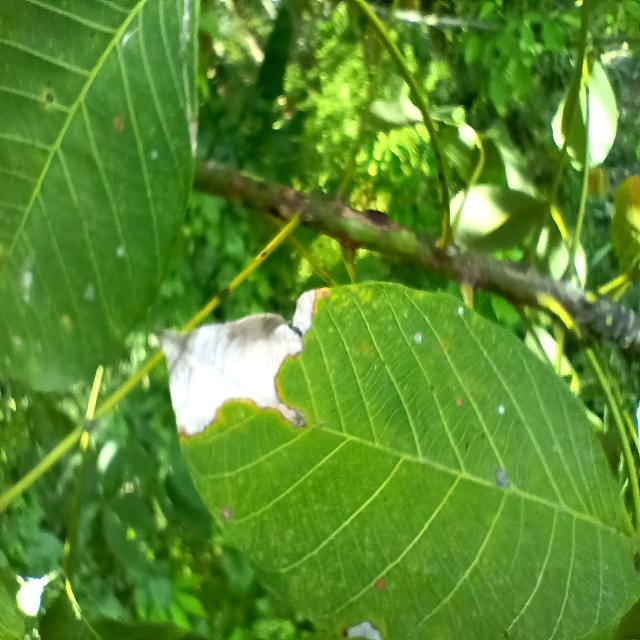Leaf-Blight: (160, 290, 314, 436)
